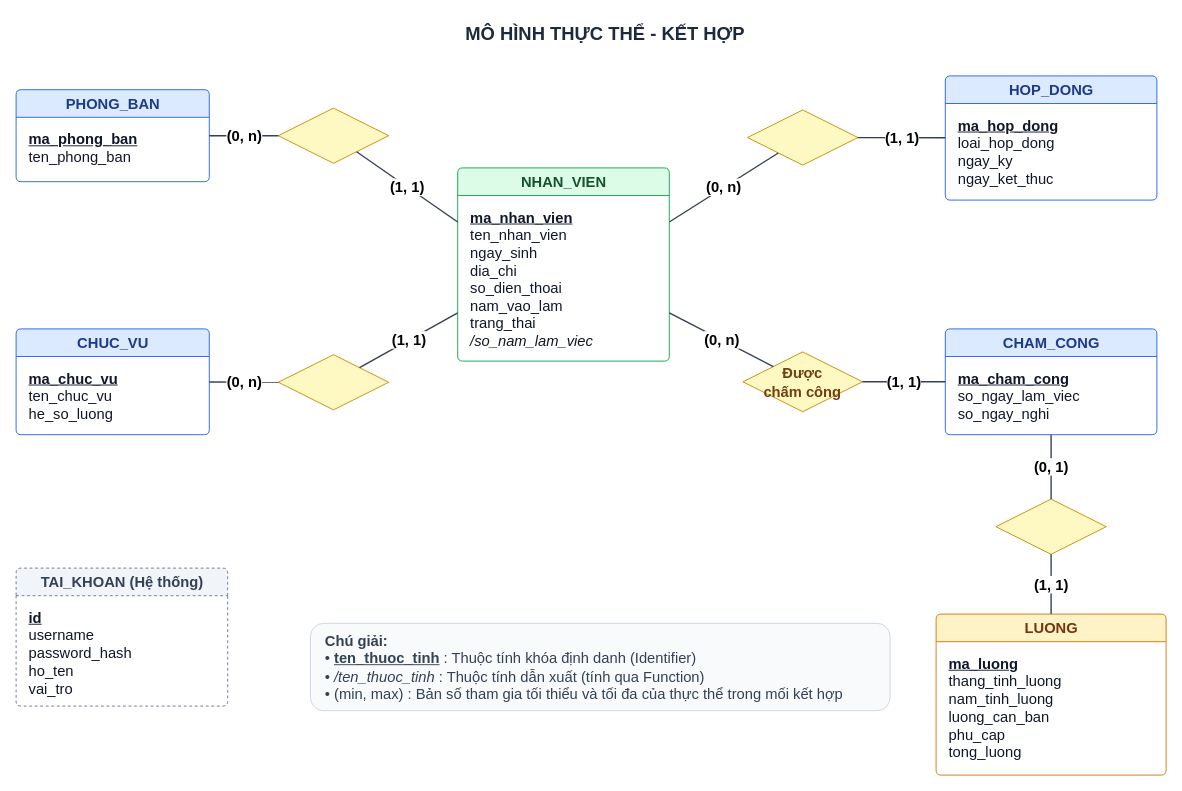
Image size: 1182x791. Some labels were removed from this diagram. The shapes that lost their labels are listed below. From the top down, each one's centre as x and y in pixels, then its label:
At (x=333, y=135): "Thuộc".
At (x=802, y=137): "Ký kết".
At (x=333, y=382): "Đảm nhận".
At (x=1050, y=526): "Tính lương".
